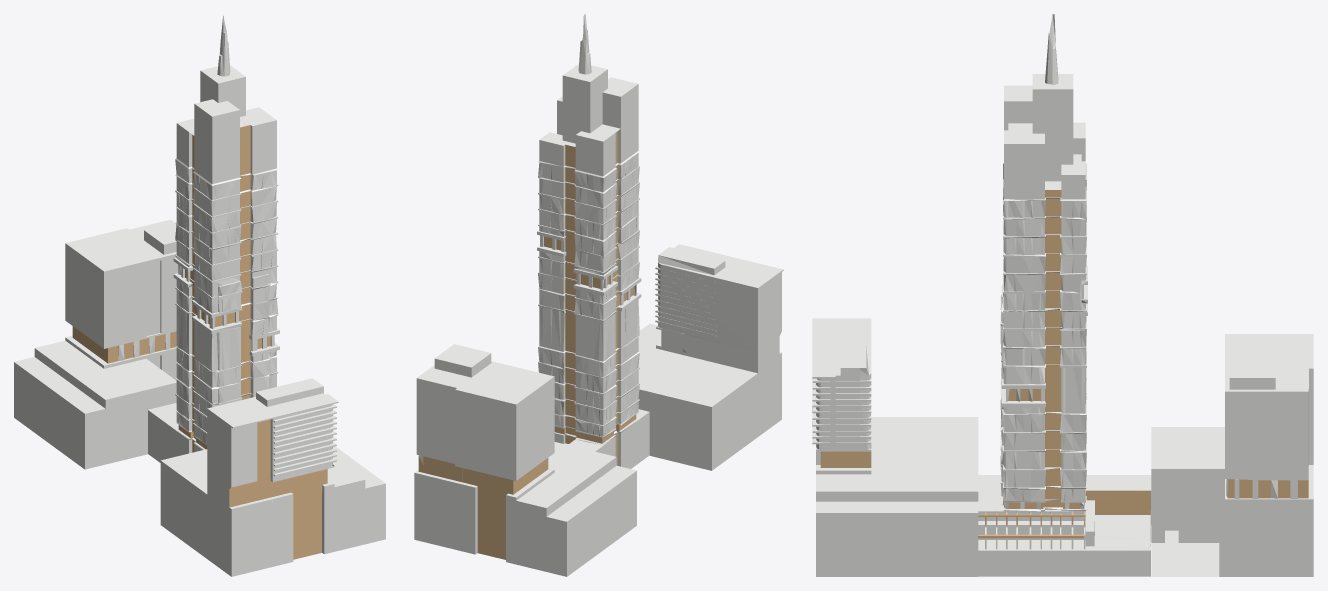
The model's file is nest-one.glb.
3 renders of one model, left to right at view 1: azimuth 30°, elevation 25°; view 2: azimuth 150°, elevation 25°; view 3: azimuth 270°, elevation 25°, orthographic. The views are drawn at different scales.
Parts seen in each view (by area): view 1: Cube_2__0; view 2: Cube_2__0; view 3: Cube_2__0.
Part boxes in pixels (x1,y1,x2,y2): Cube_2__0: [14, 16, 385, 576]; Cube_2__0: [414, 14, 783, 576]; Cube_2__0: [812, 14, 1313, 576].
Size of the model in its own units: 5 by 14.33 by 12.29.
Materials: 1 (1 with a texture image).
